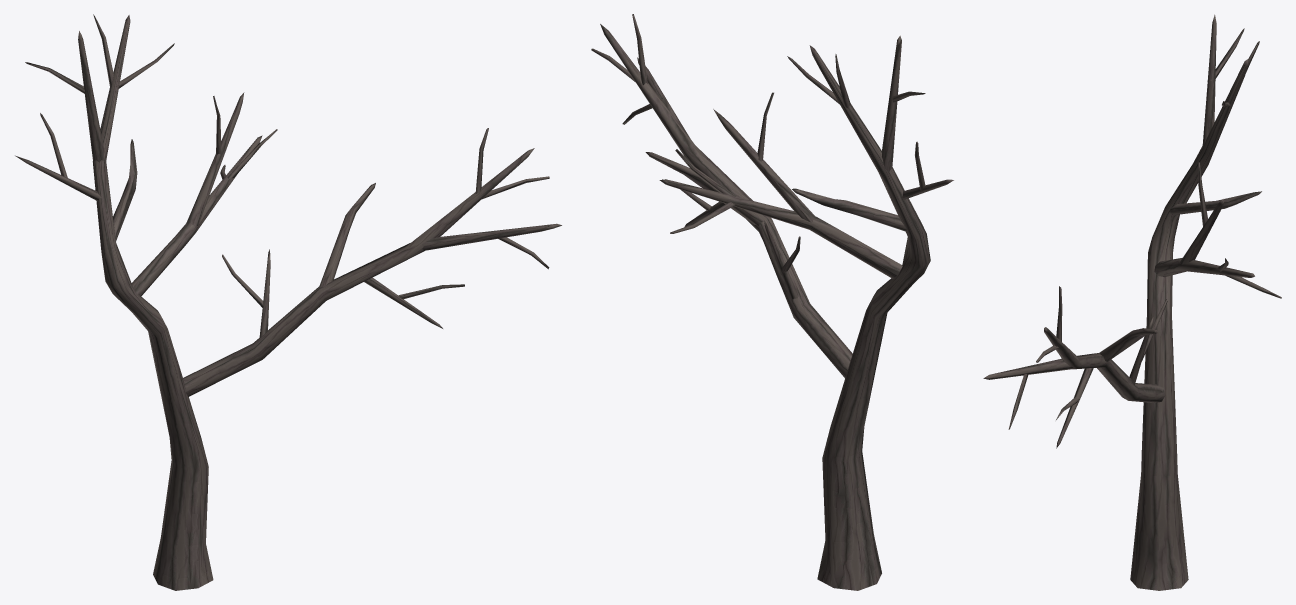
File: DeadTree_6.glb
3 views of the same model, side by side, from view 1: azimuth 30°, elevation 25°; view 2: azimuth 150°, elevation 25°; view 3: azimuth 270°, elevation 25° (orthographic). The views are drawn at different scales.
Size of the model in its own units: 5.38 by 6.41 by 3.27.
1 material, 1 textured.
